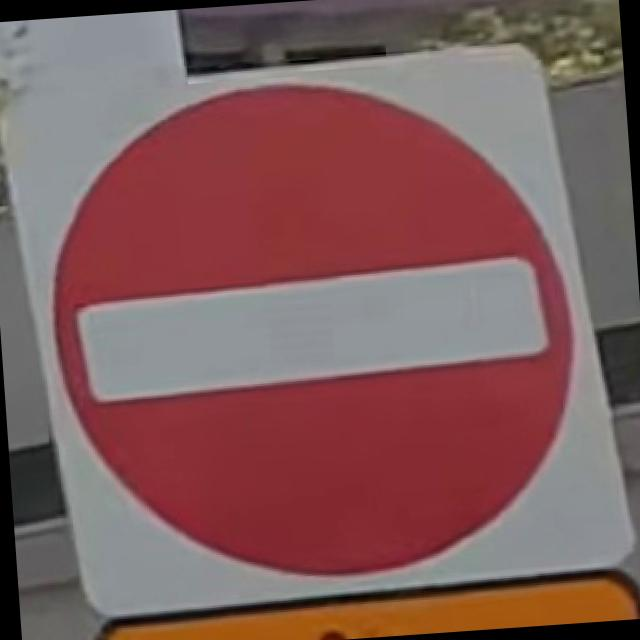noentry_sign: (28, 51, 610, 603)
